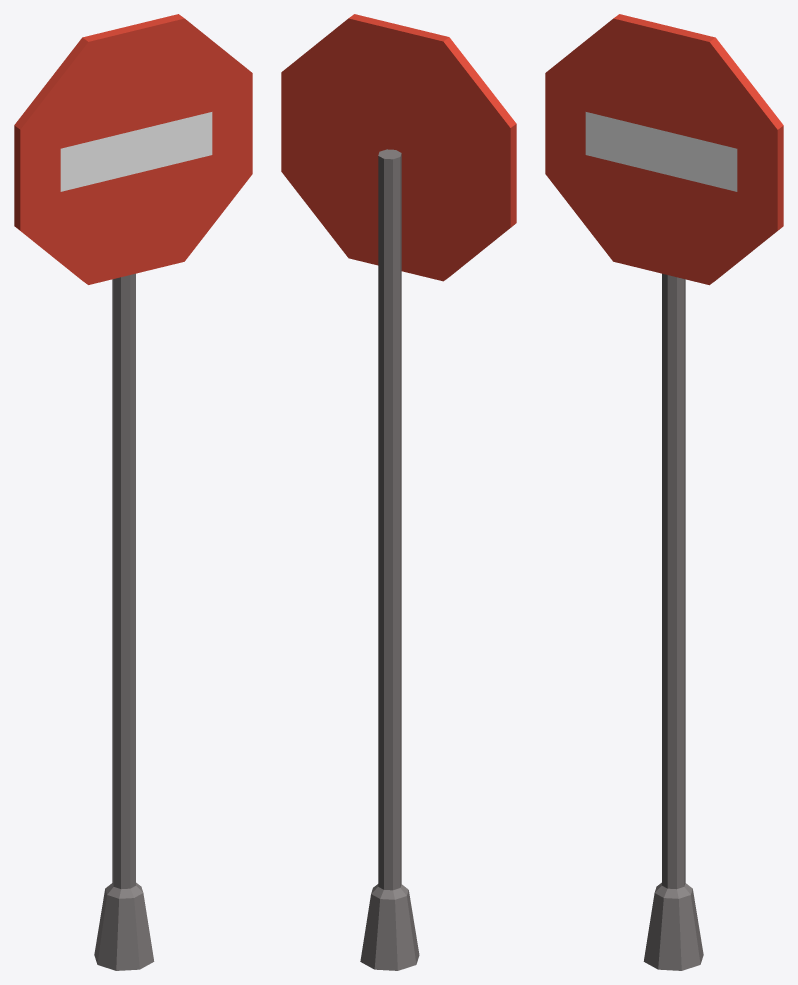
File: apocalypse_traffic-sign-no-entry.fbx
The picture shows the model from 3 angles, left to right: view 1: azimuth 30°, elevation 25°; view 2: azimuth 150°, elevation 25°; view 3: azimuth 330°, elevation 25°; orthographic projection.
Visible parts, largest first — view 1: apocalypse_traffic_sign_no_entry; view 2: apocalypse_traffic_sign_no_entry; view 3: apocalypse_traffic_sign_no_entry.
Part boxes in pixels (x1,y1,x2,y2): apocalypse_traffic_sign_no_entry: (14, 14, 252, 970); apocalypse_traffic_sign_no_entry: (281, 14, 516, 970); apocalypse_traffic_sign_no_entry: (545, 14, 783, 970).
Bounding box in the file's own units: 51.93 × 200 × 12.01.
